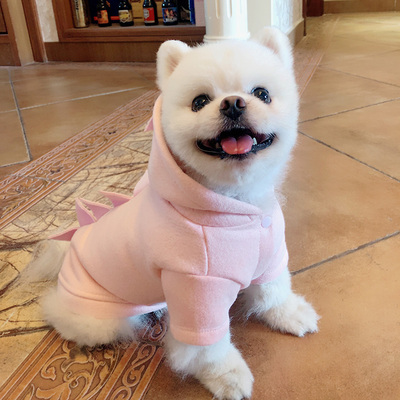dog: (29, 23, 319, 400)
